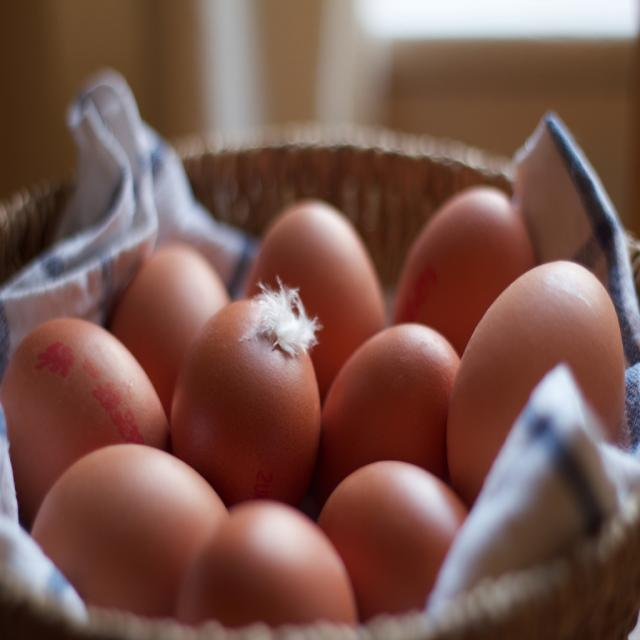Egg: (4, 357, 438, 640)
